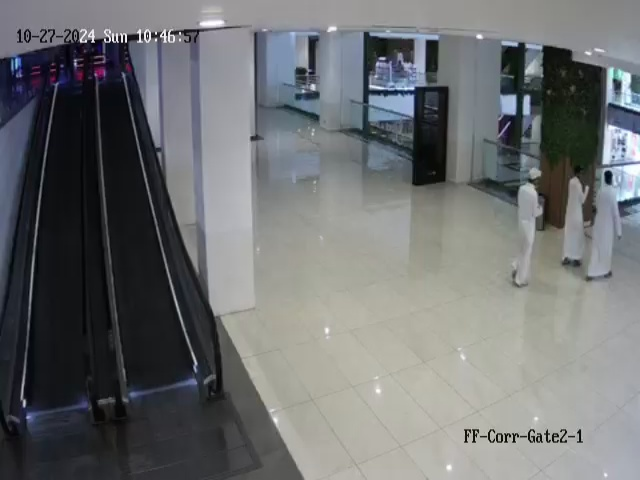male: (584, 170, 623, 281), (511, 167, 544, 288), (560, 165, 590, 267)
